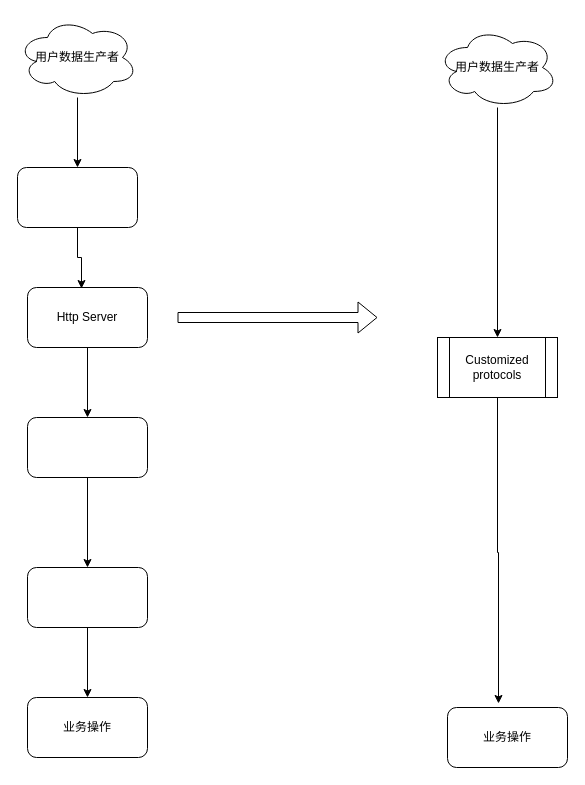
Image size: 585x785. Some labels were removed from this diagram. Each missing label, with the centre of its shape:
"反序列化" belongs at pixel 87 447.
"基本数据处理" belongs at pixel 87 597.
"数据序列化" belongs at pixel 77 197.
